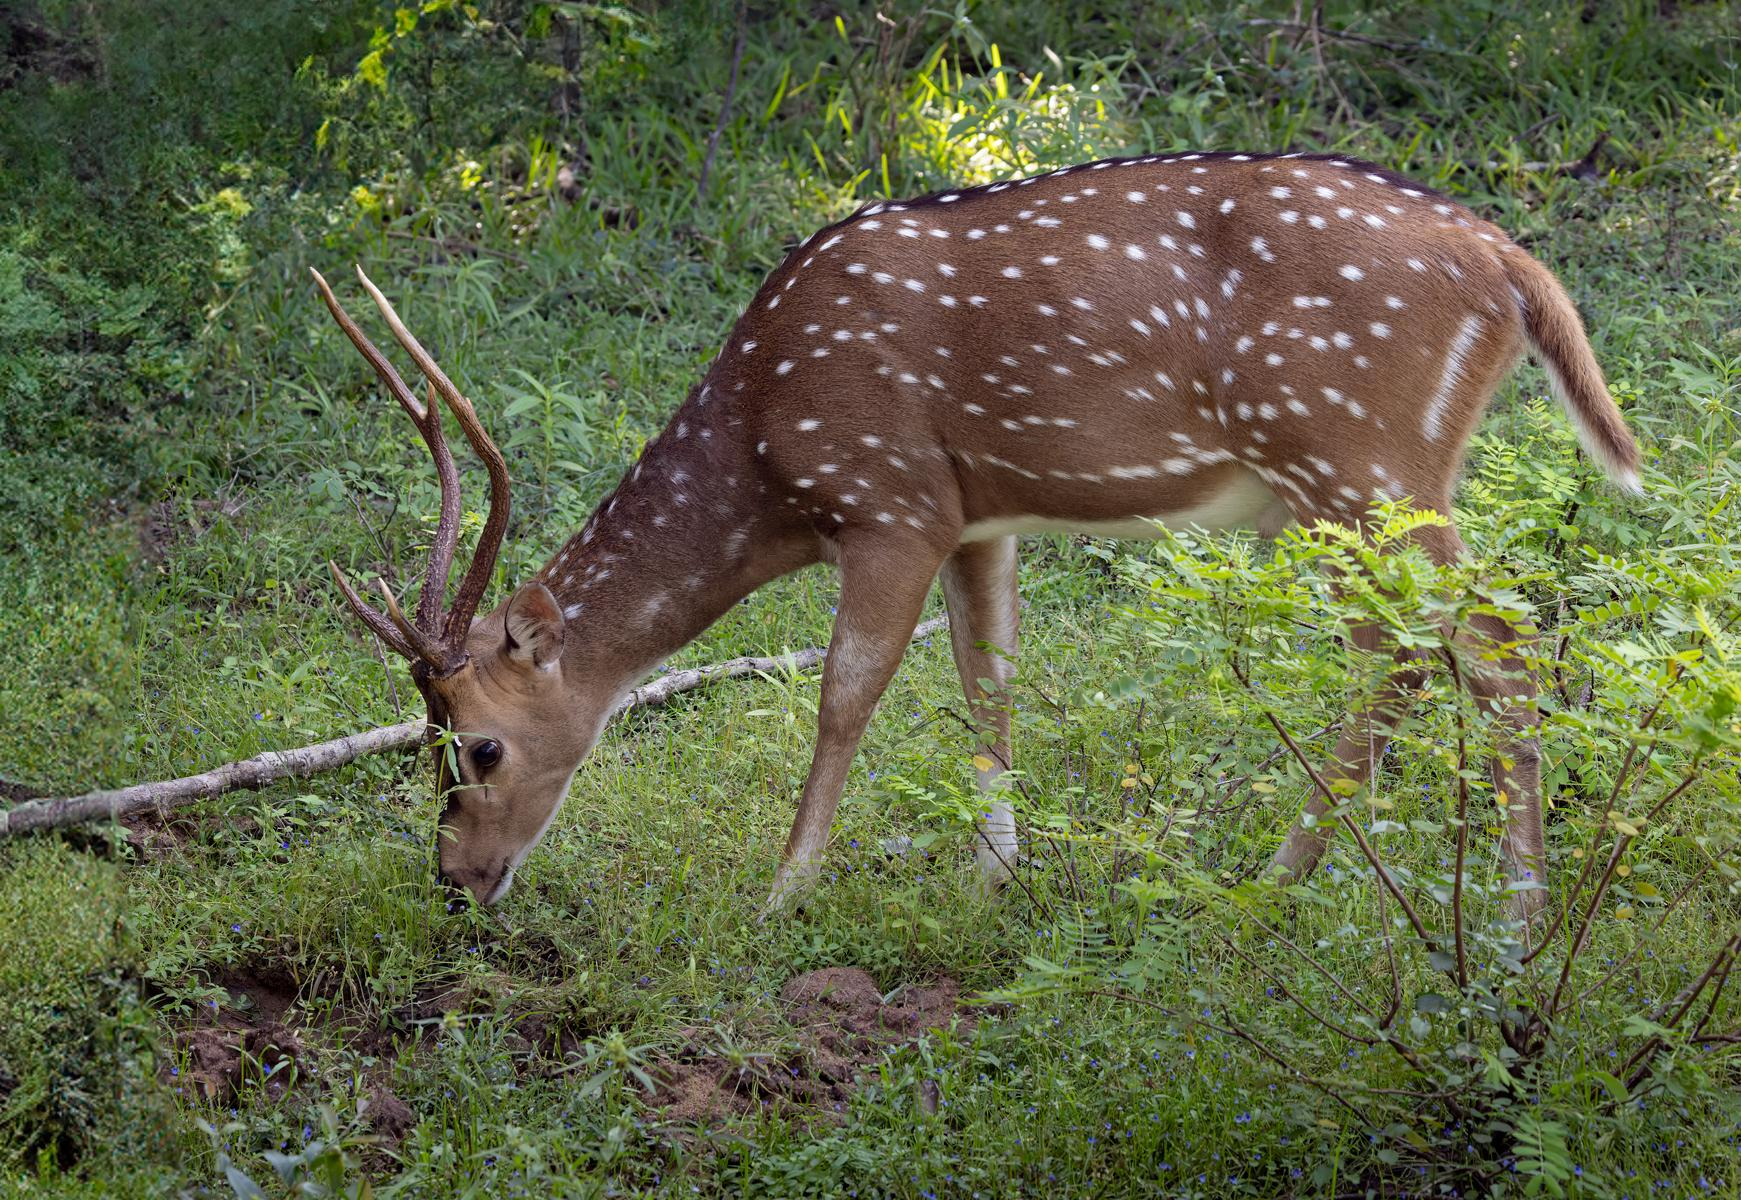Deer: (314, 152, 1640, 905)
